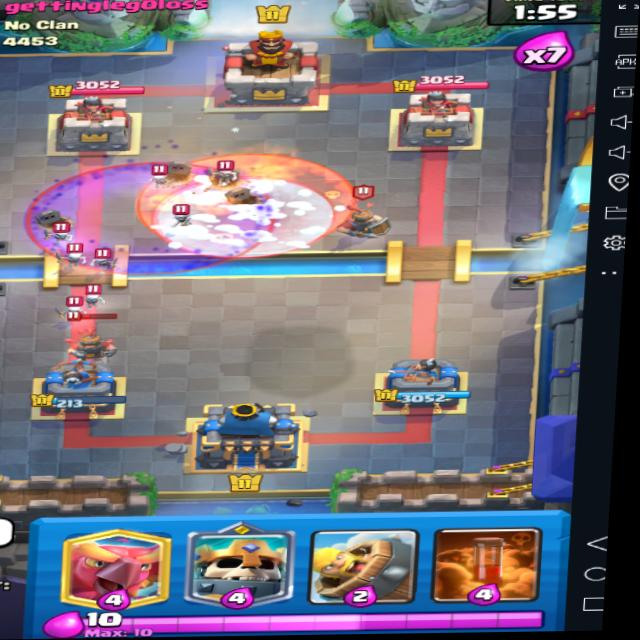freeze: (156, 175, 334, 257)
graveyard: (23, 154, 276, 270)
poison: (128, 147, 343, 253)
royal-recruits: (322, 188, 391, 249), (61, 309, 124, 366)
skeleton: (156, 203, 203, 233), (205, 163, 248, 190), (54, 289, 92, 319), (139, 168, 177, 194), (44, 222, 87, 243), (78, 287, 112, 309), (60, 243, 88, 265), (85, 251, 117, 269)
